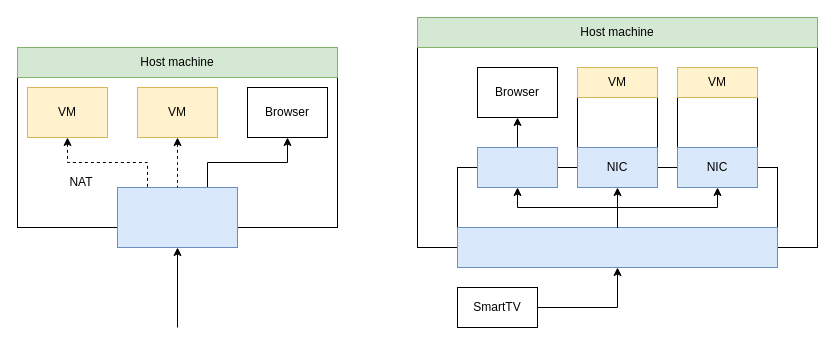
Image size: 835x353. Some labels were removed from this diagram. The shapes that lost their labels are listed below. From the top down, each one's centre as x and y in pixels, then its label:
At [517,167]: "eth0".
At [177,217]: "eth0 192.168.0.5".
At [617,247]: "bridge0 192.168.0.5".
